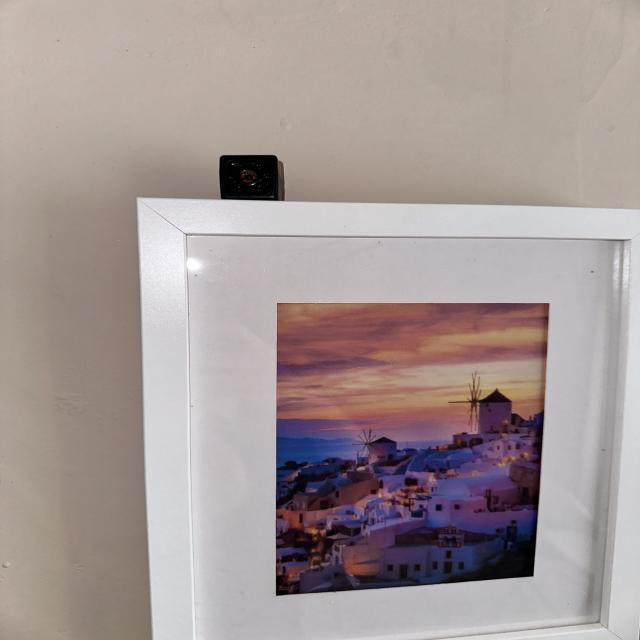hidden camera: (241, 172, 258, 184)
